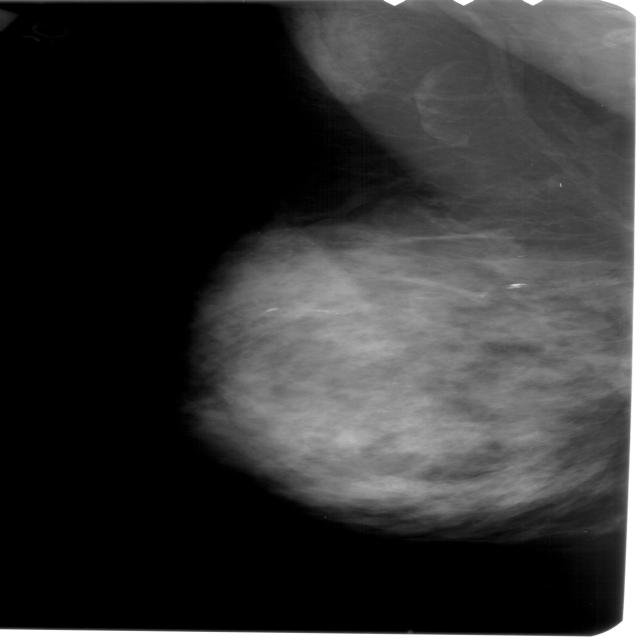cancer: (281, 401, 436, 518)
